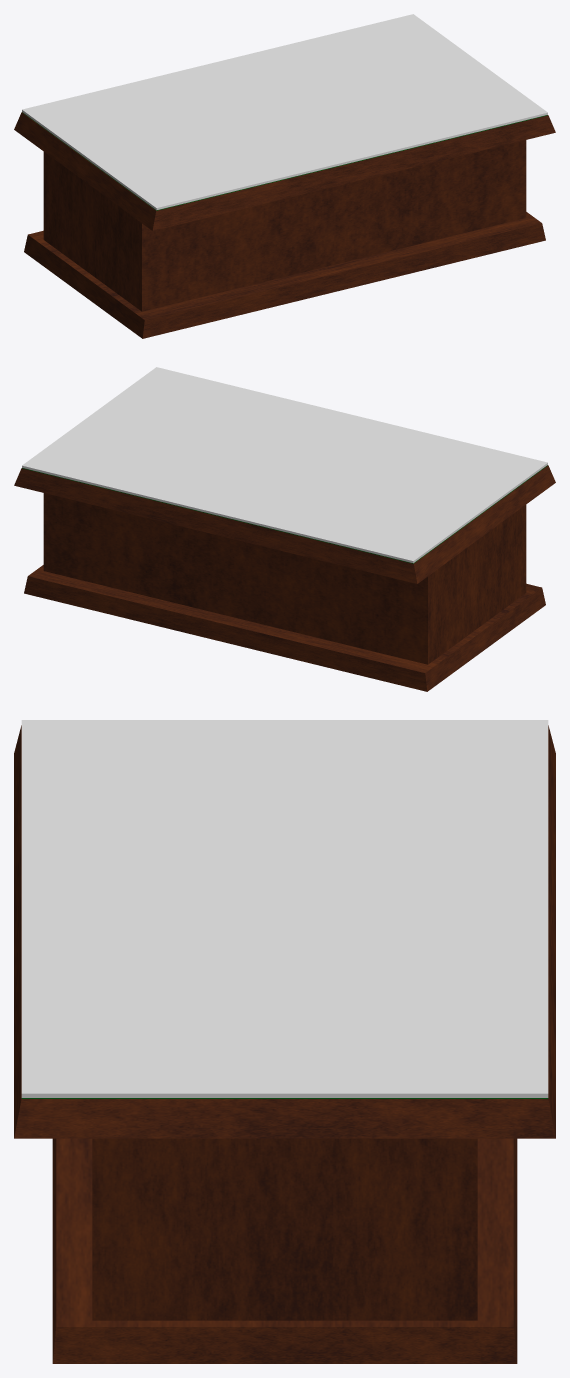
The model's file is Glass Table.fbx.
3 renders of one model, top to bottom at view 1: azimuth 30°, elevation 25°; view 2: azimuth 150°, elevation 25°; view 3: azimuth 270°, elevation 25°, orthographic. The views are drawn at different scales.
Parts seen in each view (by area): view 1: Cube.004, Cube.001, Cube, Cube.002, Cube.003; view 2: Cube.004, Cube.001, Cube, Cube.002, Cube.003; view 3: Cube.004, Cube.001, Cube, Cube.002.
Boxes of the visible parts, <box> form: Cube.004: <box>22,14,547,210</box>; Cube.001: <box>43,140,526,311</box>; Cube: <box>24,212,545,338</box>; Cube.002: <box>14,112,555,230</box>; Cube.003: <box>22,112,547,210</box>; Cube.004: <box>22,367,547,563</box>; Cube.001: <box>43,493,526,664</box>; Cube: <box>24,565,545,691</box>; Cube.002: <box>14,465,555,583</box>; Cube.003: <box>22,465,547,563</box>; Cube.004: <box>21,720,548,1097</box>; Cube.001: <box>92,1138,477,1320</box>; Cube: <box>52,1138,517,1363</box>; Cube.002: <box>14,725,555,1138</box>.
Bounding box in the file's own units: 639 × 205 × 380.
